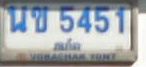txt02: (29, 4, 49, 35)
txt20: (6, 5, 28, 34)
